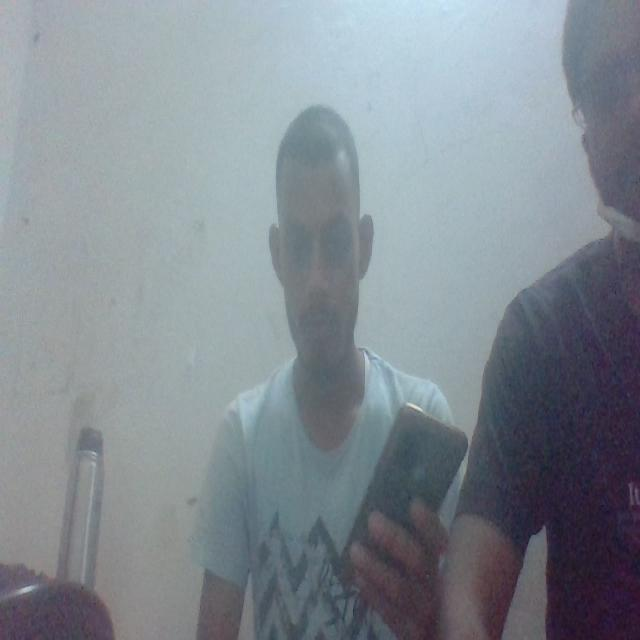Phone: (336, 399, 472, 594)
